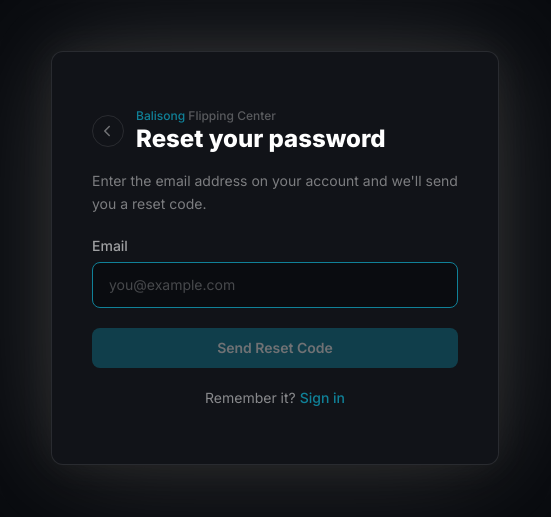
Test case: ForgotPasswordPage — email step › disables Send Reset Code until the email looks valid
Expected: the button "Send Reset Code" is disabled, [92,328,458,368]
In the field with placeholder "you@example.com": (275, 285) [92,262,458,308], type "not-an-email"
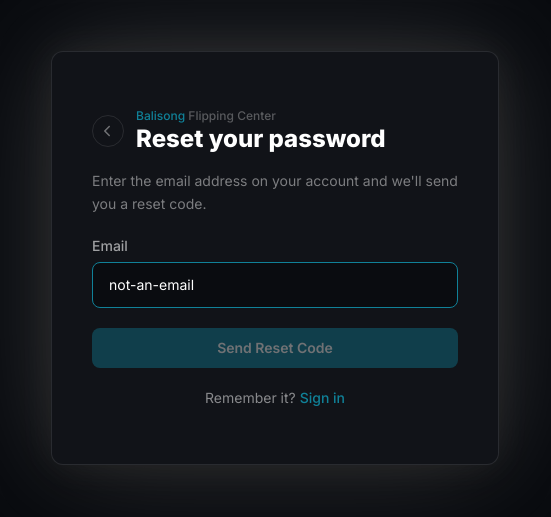
Expected: the button "Send Reset Code" is disabled, [92,328,458,368]
Replace the text in the field with placeholder "you@example.com" with "user@example.com": (275, 285) [92,262,458,308]
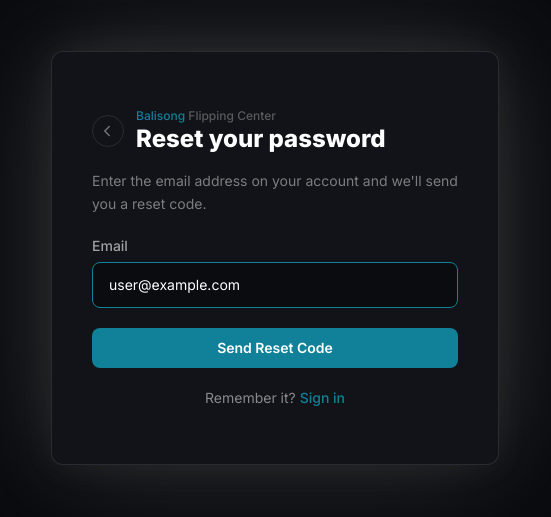
Expected: the button "Send Reset Code" is enabled, [92,328,458,368]
